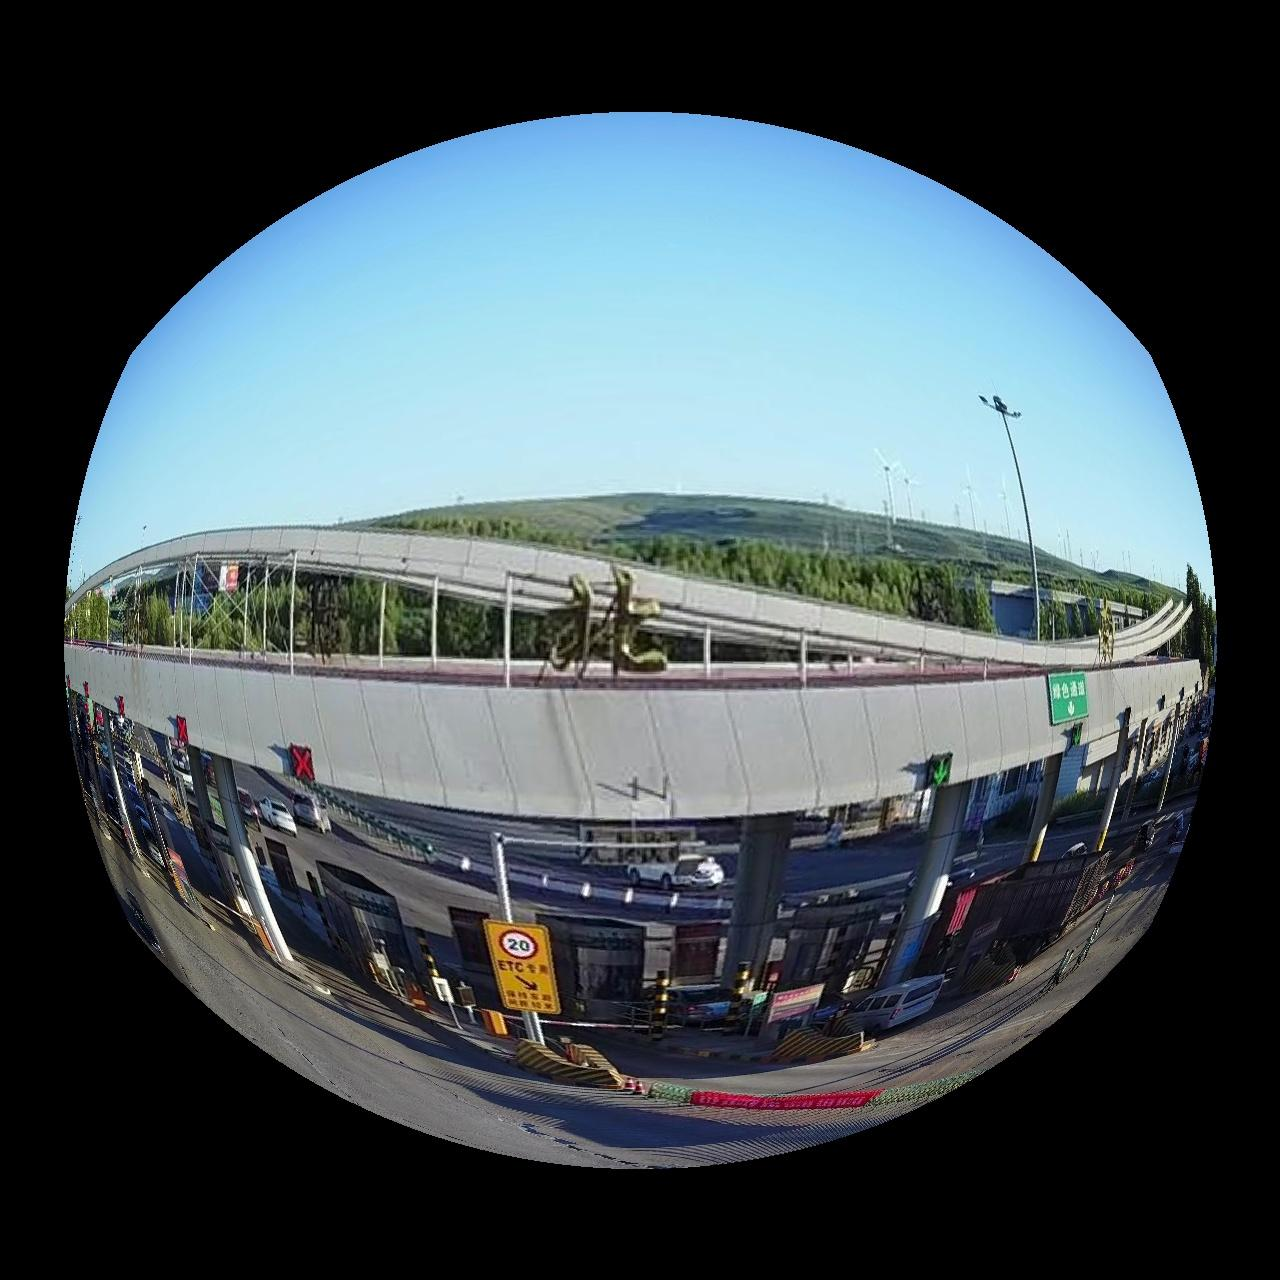building: (65, 527, 1210, 1077)
